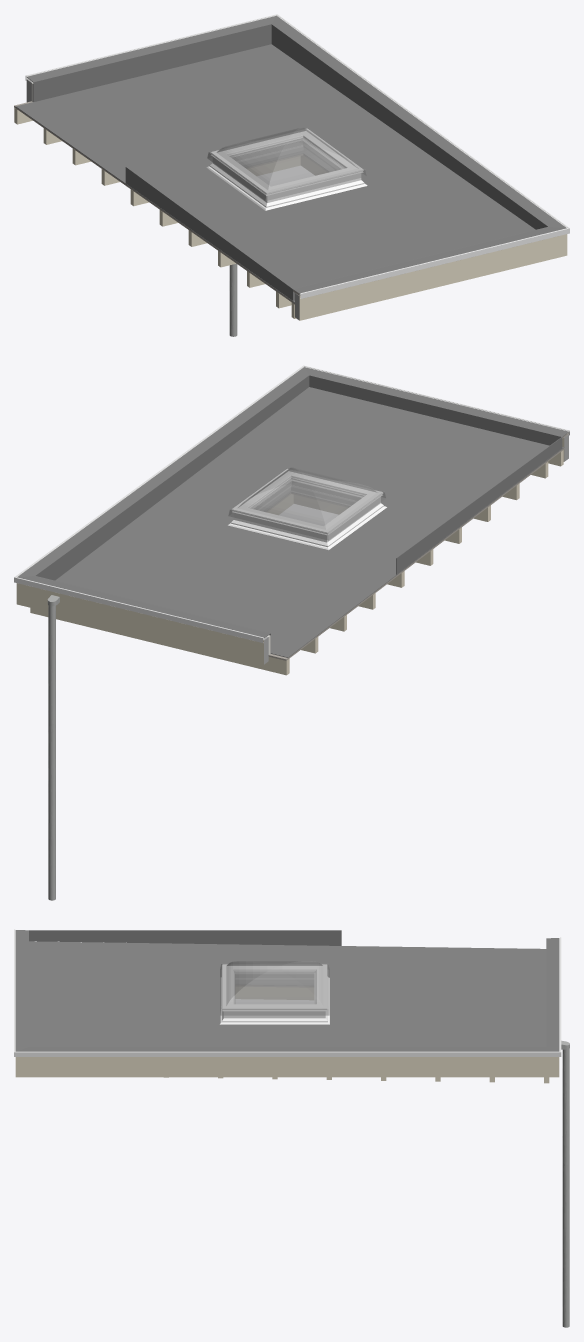
The picture shows the model from 3 angles, top to bottom: view 1: azimuth 30°, elevation 25°; view 2: azimuth 150°, elevation 25°; view 3: azimuth 270°, elevation 25°; orthographic projection. The views are drawn at different scales.
Parts seen in each view (by area): view 1: [7560059]47_Dakbedekking, [7560213]37_FAKRO_DXC_100x100cm_gen, [7560037]47_Dakbedekking, [7560035]47_Dakbedekking, [7560089]47_Dakbedekking, [7560176]21_HSB-element, [7560125]AL_Daktrim, [7560212]47_Dakbedekking, [7560048]27_Houtwolcement, [7560174]21_HSB-element, [7560177]21_HSB-element, [7560023]52_HWA + Stadsuitloop (+1 smaller); view 2: [7560059]47_Dakbedekking, [7560213]37_FAKRO_DXC_100x100cm_gen, [7560037]47_Dakbedekking, [7560159]21_HSB-element, [7560089]47_Dakbedekking, [7560045]47_Dakbedekking, [7560125]AL_Daktrim, [7560212]47_Dakbedekking, [7560023]52_HWA + Stadsuitloop, [7560076]59x171, [7560048]27_Houtwolcement; view 3: [7560059]47_Dakbedekking, [7560178]21_HSB-element, [7560213]37_FAKRO_DXC_100x100cm_gen, [7560037]47_Dakbedekking, [7560212]47_Dakbedekking, [7560125]AL_Daktrim, [7560023]52_HWA + Stadsuitloop, [7560272]59x171.
Part boxes in pixels (box(x1,y1,x2,y2)): [7560059]47_Dakbedekking: box(15, 44, 535, 302); [7560213]37_FAKRO_DXC_100x100cm_gen: box(206, 127, 367, 210); [7560037]47_Dakbedekking: box(27, 15, 566, 293); [7560035]47_Dakbedekking: box(33, 24, 271, 101); [7560089]47_Dakbedekking: box(271, 24, 548, 229); [7560176]21_HSB-element: box(329, 242, 535, 313); [7560125]AL_Daktrim: box(25, 14, 569, 298); [7560212]47_Dakbedekking: box(125, 167, 292, 300); [7560048]27_Houtwolcement: box(14, 101, 328, 304); [7560174]21_HSB-element: box(295, 292, 328, 320); [7560177]21_HSB-element: box(535, 234, 567, 263); [7560023]52_HWA + Stadsuitloop: box(229, 263, 237, 336); [7560059]47_Dakbedekking: box(55, 387, 564, 657); [7560213]37_FAKRO_DXC_100x100cm_gen: box(228, 467, 386, 550); [7560037]47_Dakbedekking: box(17, 367, 568, 637); [7560159]21_HSB-element: box(25, 585, 268, 664); [7560089]47_Dakbedekking: box(35, 375, 309, 580); [7560045]47_Dakbedekking: box(309, 375, 562, 448); [7560125]AL_Daktrim: box(14, 365, 569, 642); [7560212]47_Dakbedekking: box(396, 437, 561, 574); [7560023]52_HWA + Stadsuitloop: box(47, 595, 59, 900); [7560076]59x171: box(30, 608, 289, 675); [7560048]27_Houtwolcement: box(266, 448, 564, 660); [7560059]47_Dakbedekking: box(29, 941, 546, 1046); [7560178]21_HSB-element: box(25, 1057, 559, 1077); [7560213]37_FAKRO_DXC_100x100cm_gen: box(219, 961, 329, 1024); [7560037]47_Dakbedekking: box(15, 930, 559, 1051); [7560212]47_Dakbedekking: box(29, 930, 341, 945); [7560125]AL_Daktrim: box(14, 929, 561, 1056); [7560023]52_HWA + Stadsuitloop: box(561, 1040, 569, 1327); [7560272]59x171: box(235, 987, 313, 999).
Size of the model in its own units: 3.21 by 3.79 by 6.14.
